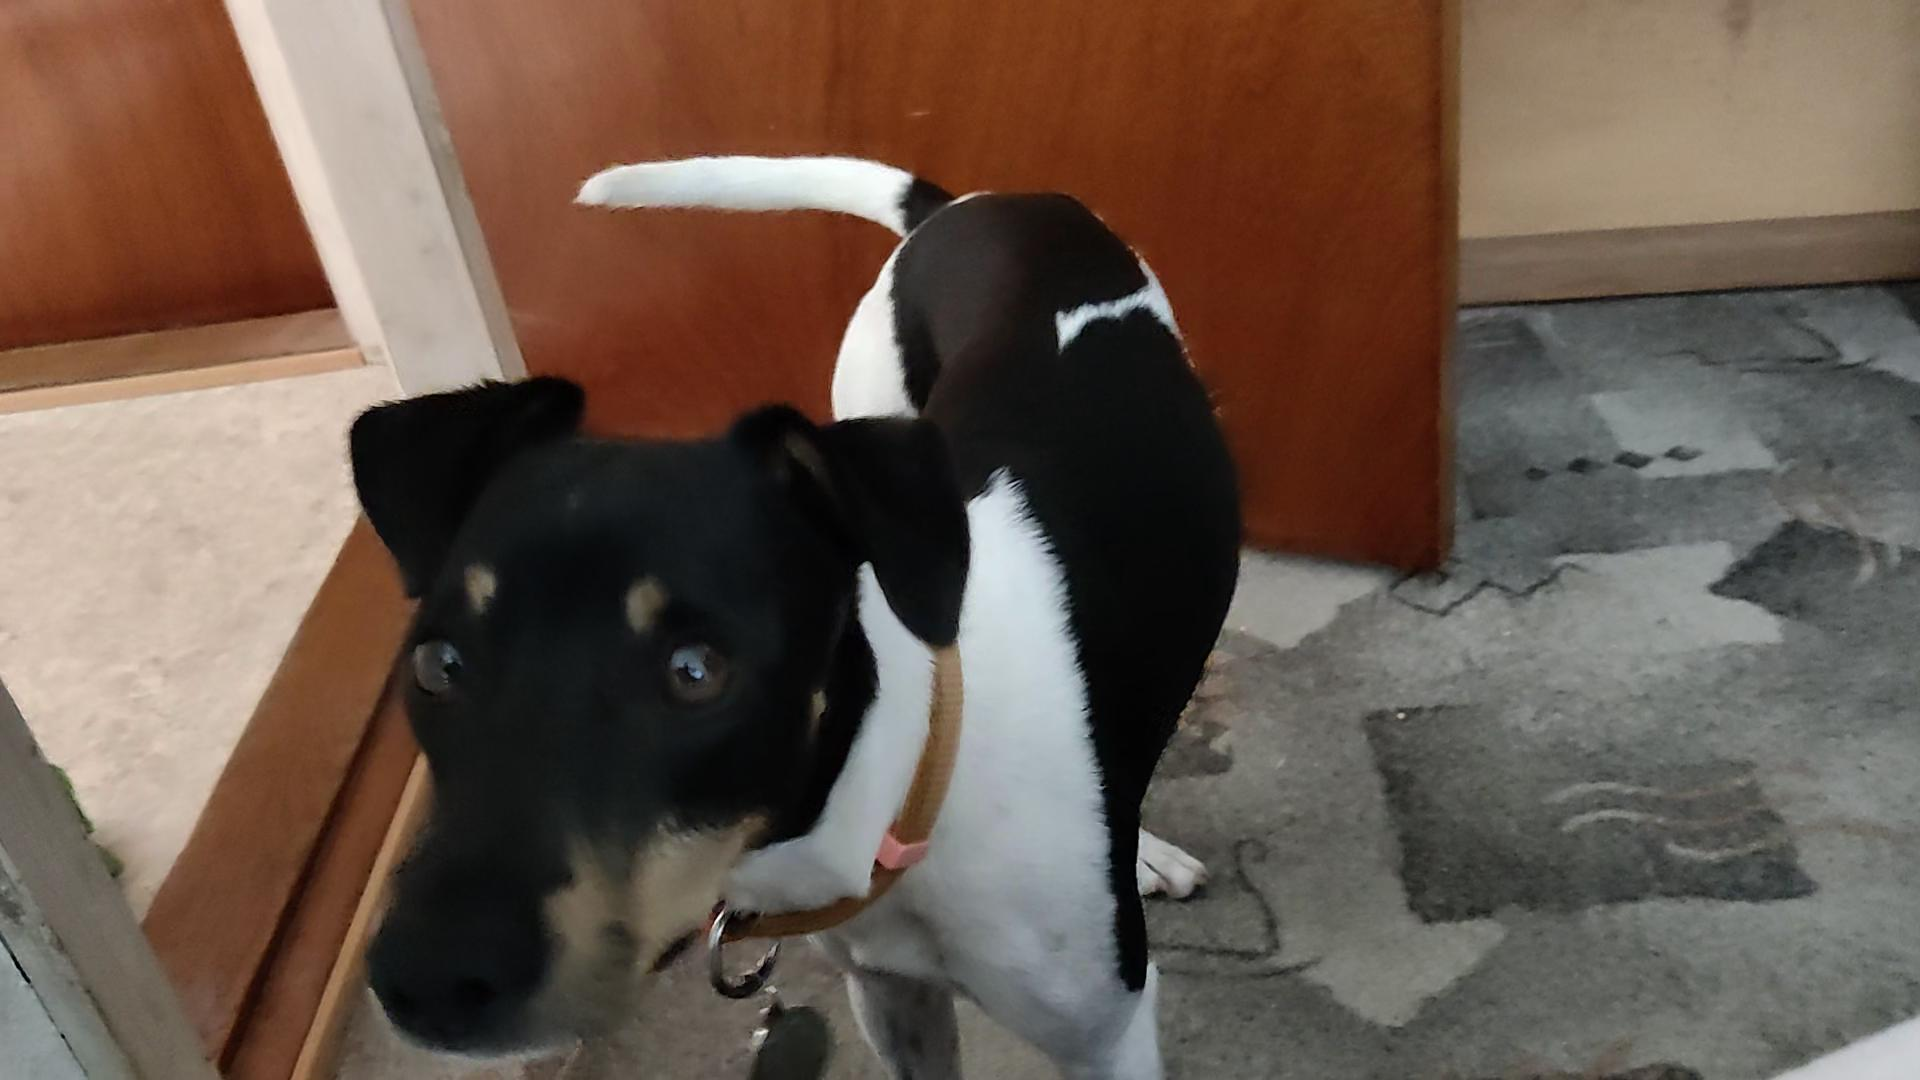Dog: (342, 149, 1250, 1079)
